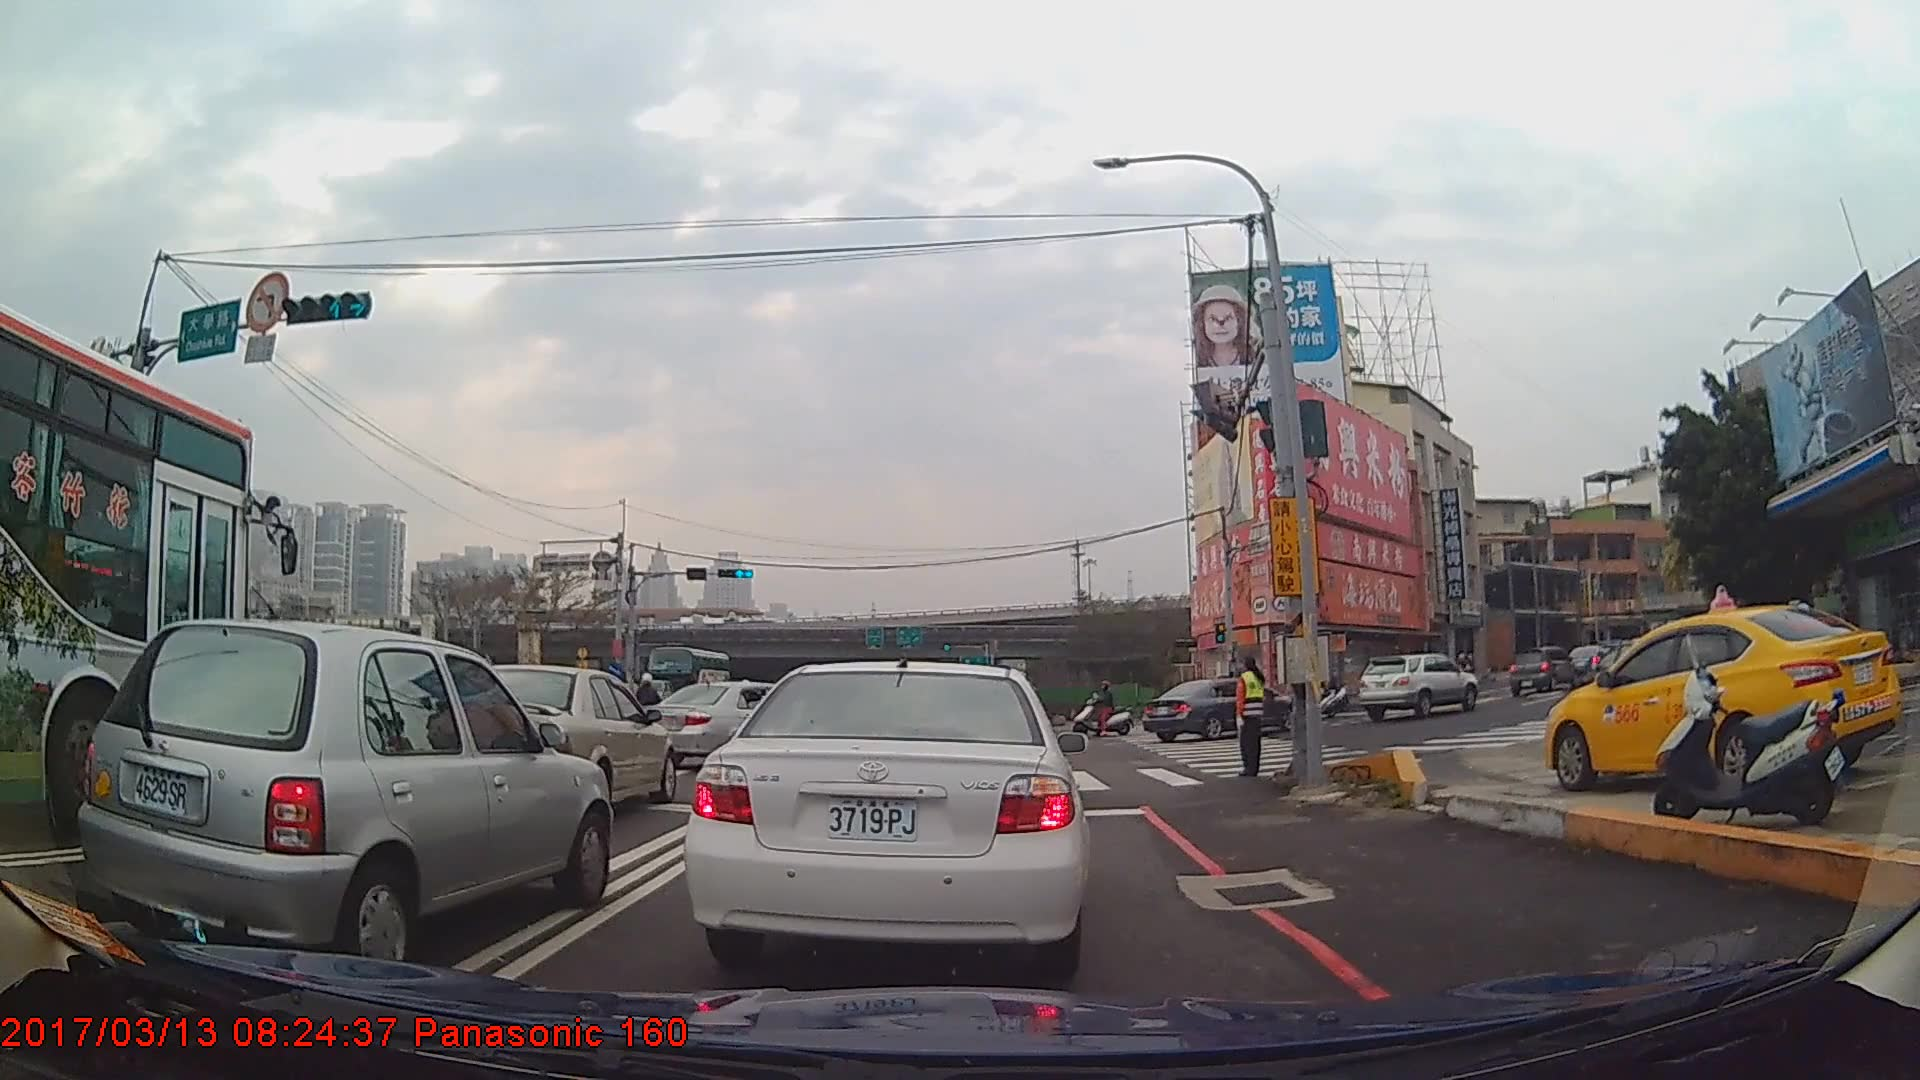pedestrian: (1230, 657, 1268, 777)
rider: (1074, 681, 1136, 739), (631, 675, 662, 746), (1301, 664, 1338, 719)
vehicle: (76, 617, 613, 977), (0, 297, 250, 841), (683, 654, 1089, 974), (1543, 603, 1899, 793), (443, 662, 676, 827), (642, 680, 828, 772), (1144, 674, 1296, 744), (1356, 650, 1477, 719), (645, 645, 730, 705), (1505, 646, 1576, 694)
